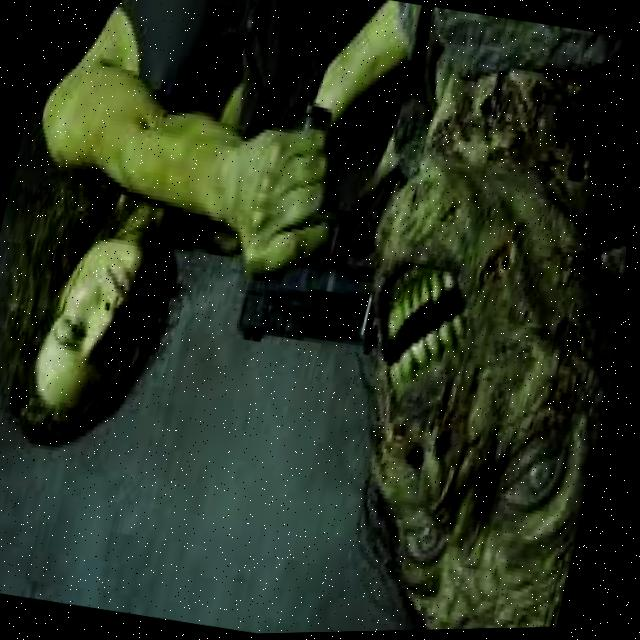pistol: (233, 195, 408, 369)
